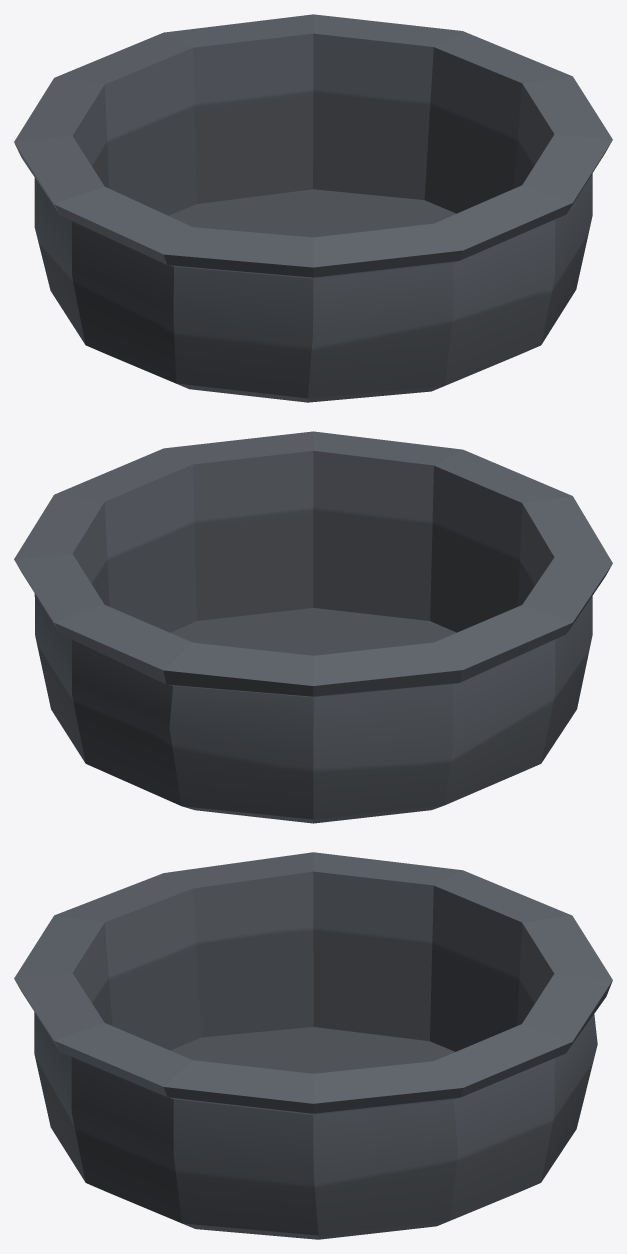
Rendered from SM_Prop_Pot_Large_02.fbx.
The picture shows the model from 3 angles, top to bottom: view 1: azimuth 30°, elevation 25°; view 2: azimuth 150°, elevation 25°; view 3: azimuth 270°, elevation 25°; orthographic projection.
Parts seen in each view (by area): view 1: SM_Prop_Pot_Large_02; view 2: SM_Prop_Pot_Large_02; view 3: SM_Prop_Pot_Large_02.
Boxes of the visible parts, x1=… form: SM_Prop_Pot_Large_02: x1=14, y1=14, x2=612, y2=402; SM_Prop_Pot_Large_02: x1=14, y1=431, x2=612, y2=823; SM_Prop_Pot_Large_02: x1=14, y1=852, x2=612, y2=1239.
Size of the model in its own units: 135 by 42.54 by 135.
